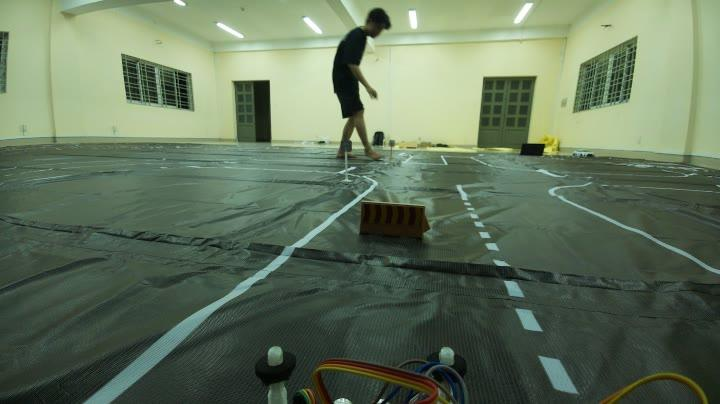roadblock: (349, 190, 434, 251)
